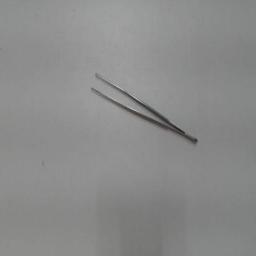Gillies Toothed Dissector: (88, 68, 202, 152)
